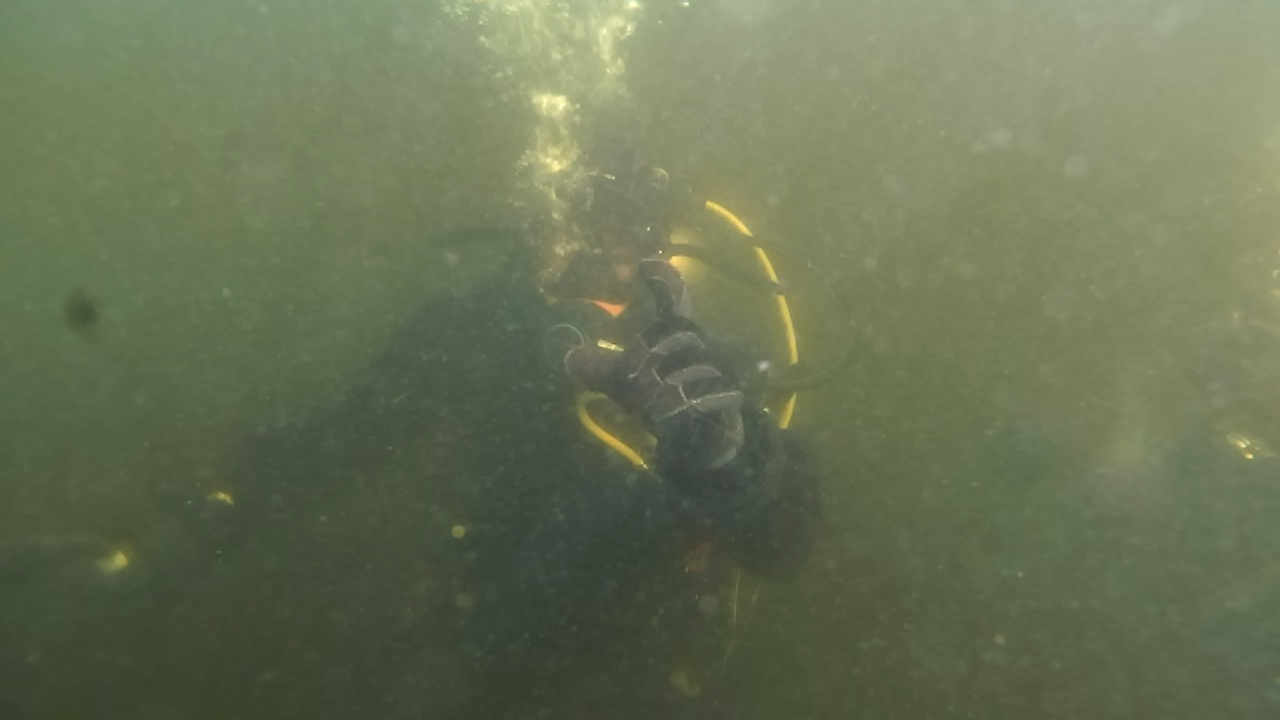Diver: (4, 120, 878, 684)
Hand: (564, 258, 776, 494), (2, 498, 162, 636)
Head: (508, 136, 684, 370)
